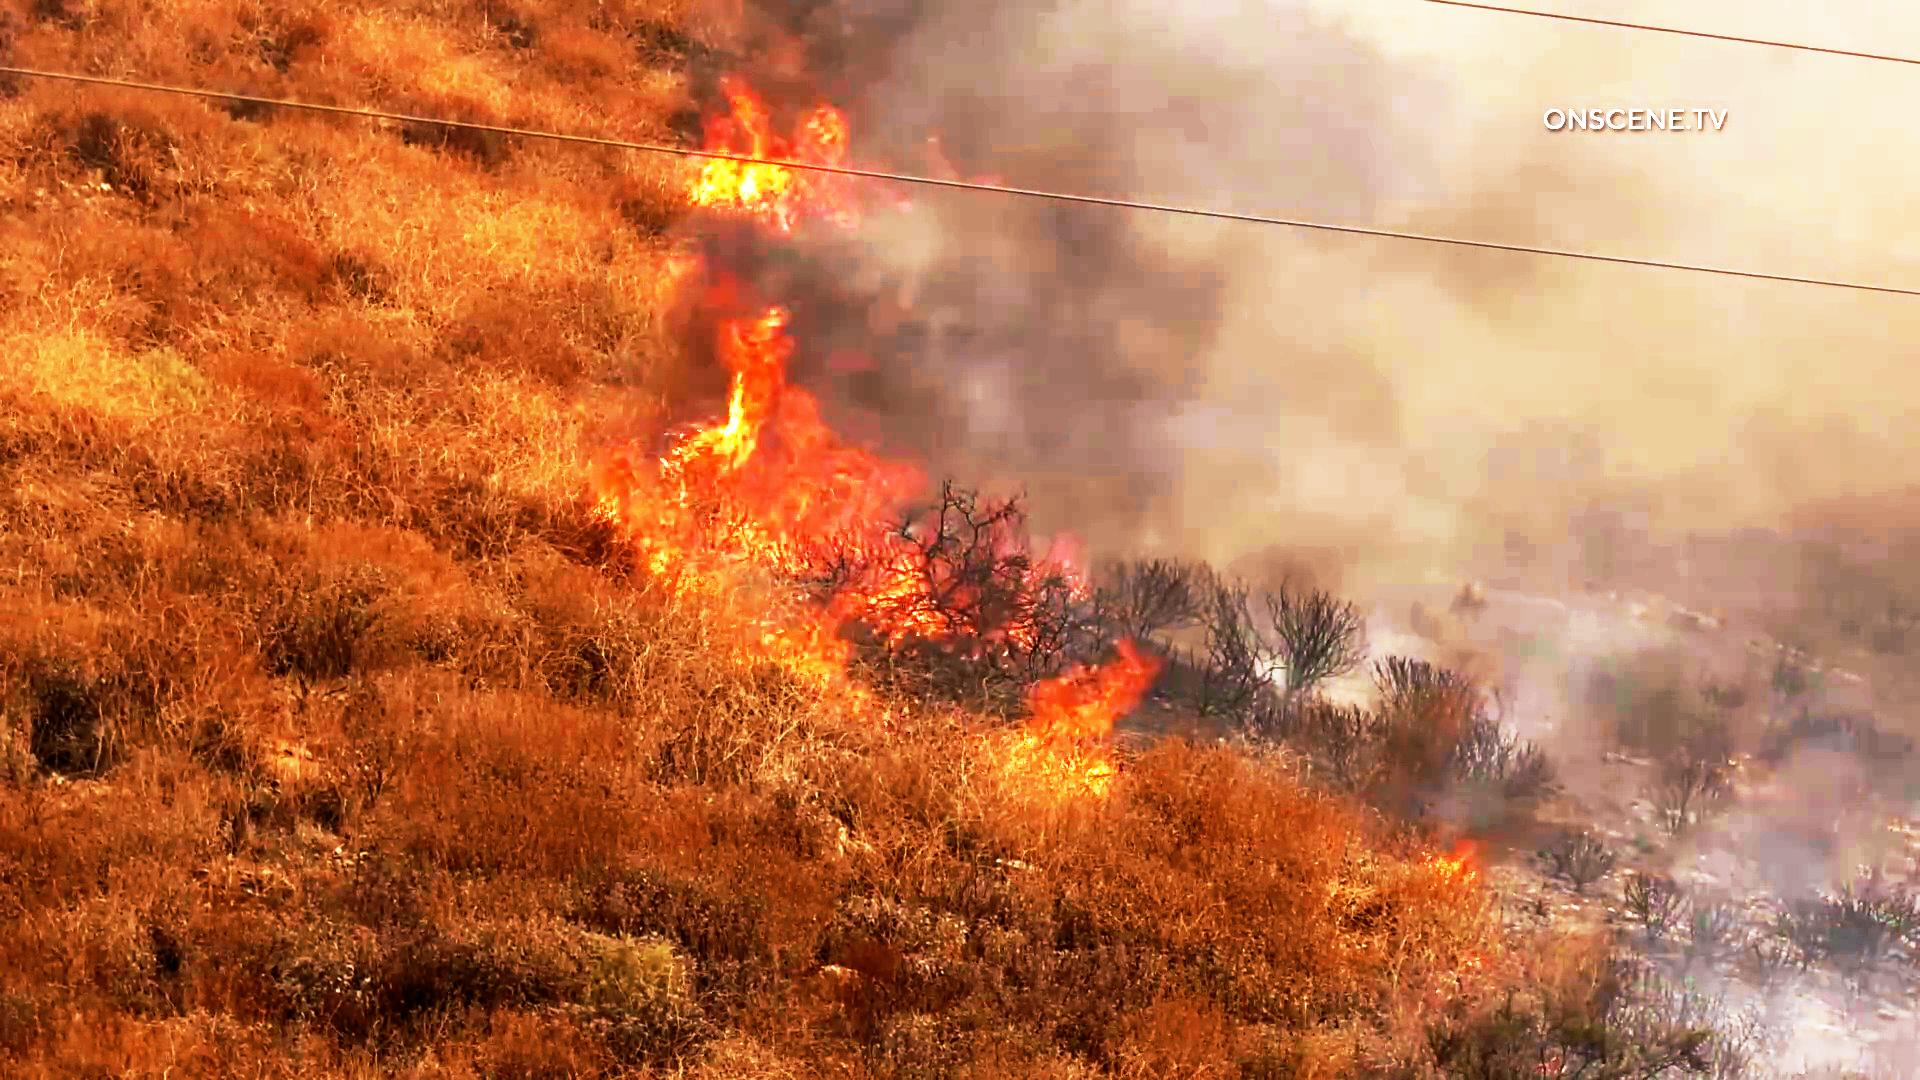fire: (633, 62, 1171, 770)
smoke: (1316, 237, 1920, 960), (1139, 28, 1509, 584)
